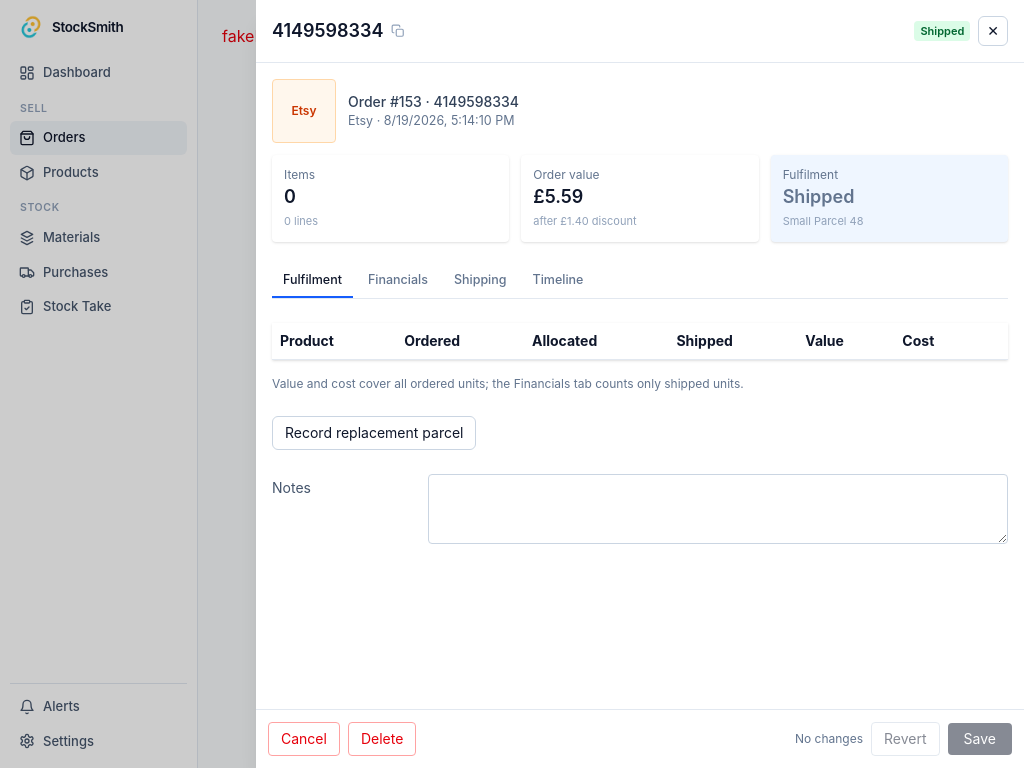
Scenario: keeps a refund as its own figure
Click the button "Financials".
click(398, 282)  # box [357,266,439,298]
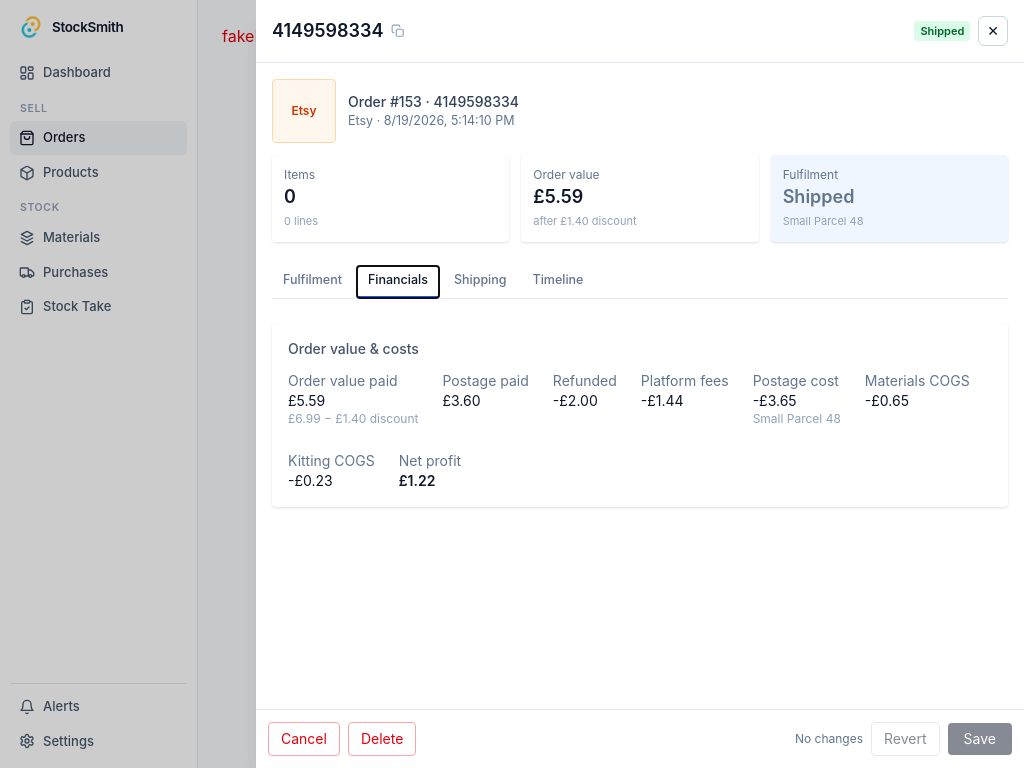
Check: the heading "Order value & costs" is shown, box [288,340,419,356]
Check: the text "Refunded" is shown, box [553,370,617,390]
Check: the text "-£2.00" is shown, box [553,392,598,408]
